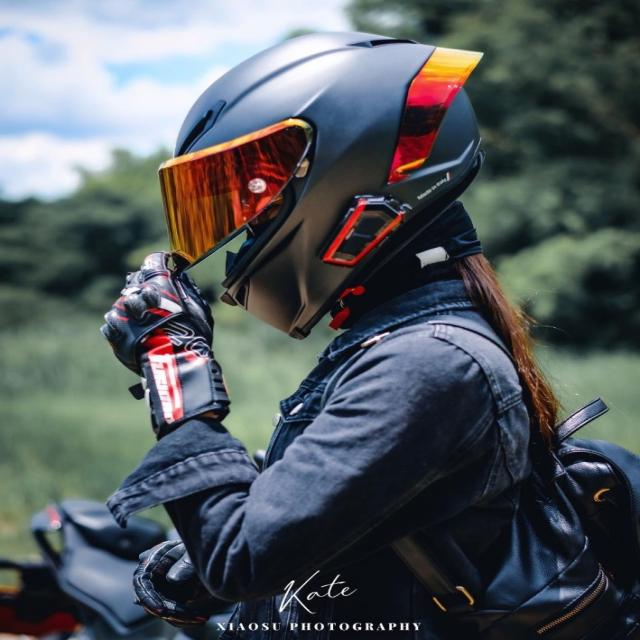helmet: (152, 22, 492, 346)
